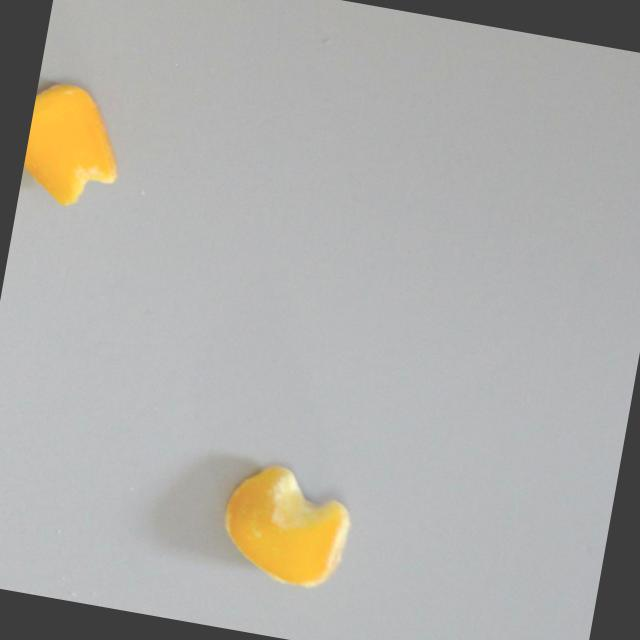no_canjicado: (17, 78, 128, 213)
pelicula: (212, 457, 355, 593)
